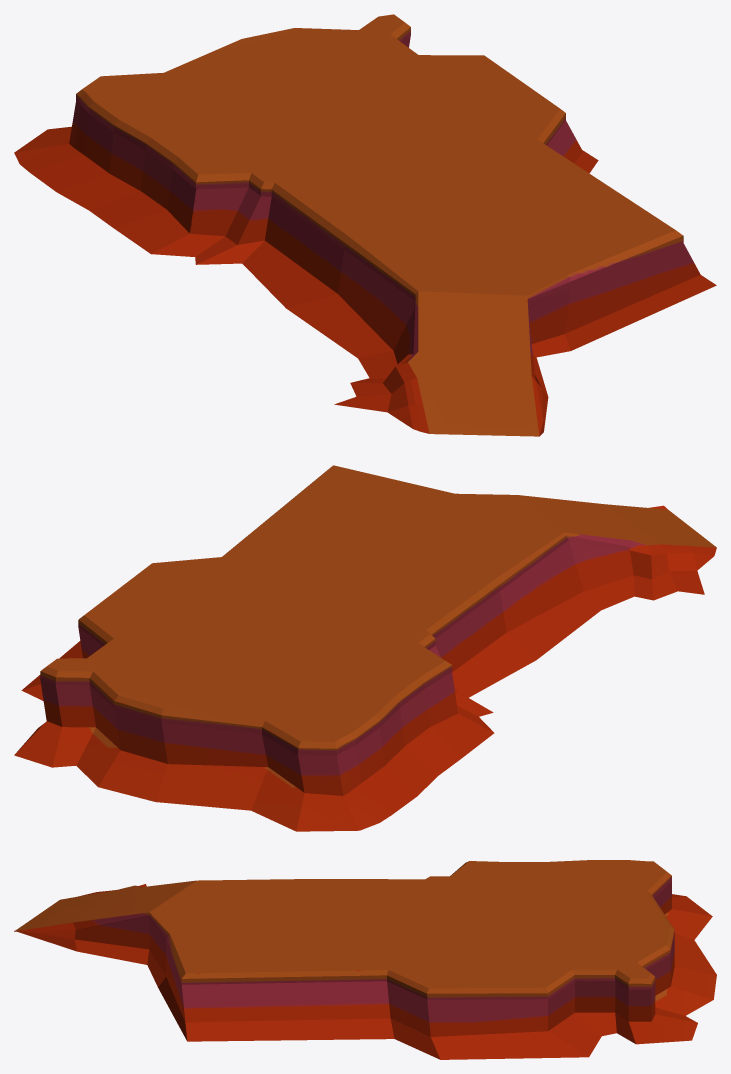
File: rampa_02.fbx
The picture shows the model from 3 angles, top to bottom: view 1: azimuth 30°, elevation 25°; view 2: azimuth 150°, elevation 25°; view 3: azimuth 270°, elevation 25°; orthographic projection. The views are drawn at different scales.
Parts seen in each view (by area): view 1: Plane.001; view 2: Plane.001; view 3: Plane.001.
Boxes of the visible parts, left/top/right/bottom form: Plane.001: left=14, top=14, right=716, bottom=436; Plane.001: left=14, top=465, right=716, bottom=831; Plane.001: left=14, top=860, right=716, bottom=1059.
Bounding box in the file's own units: 4926 × 814 × 8412.
